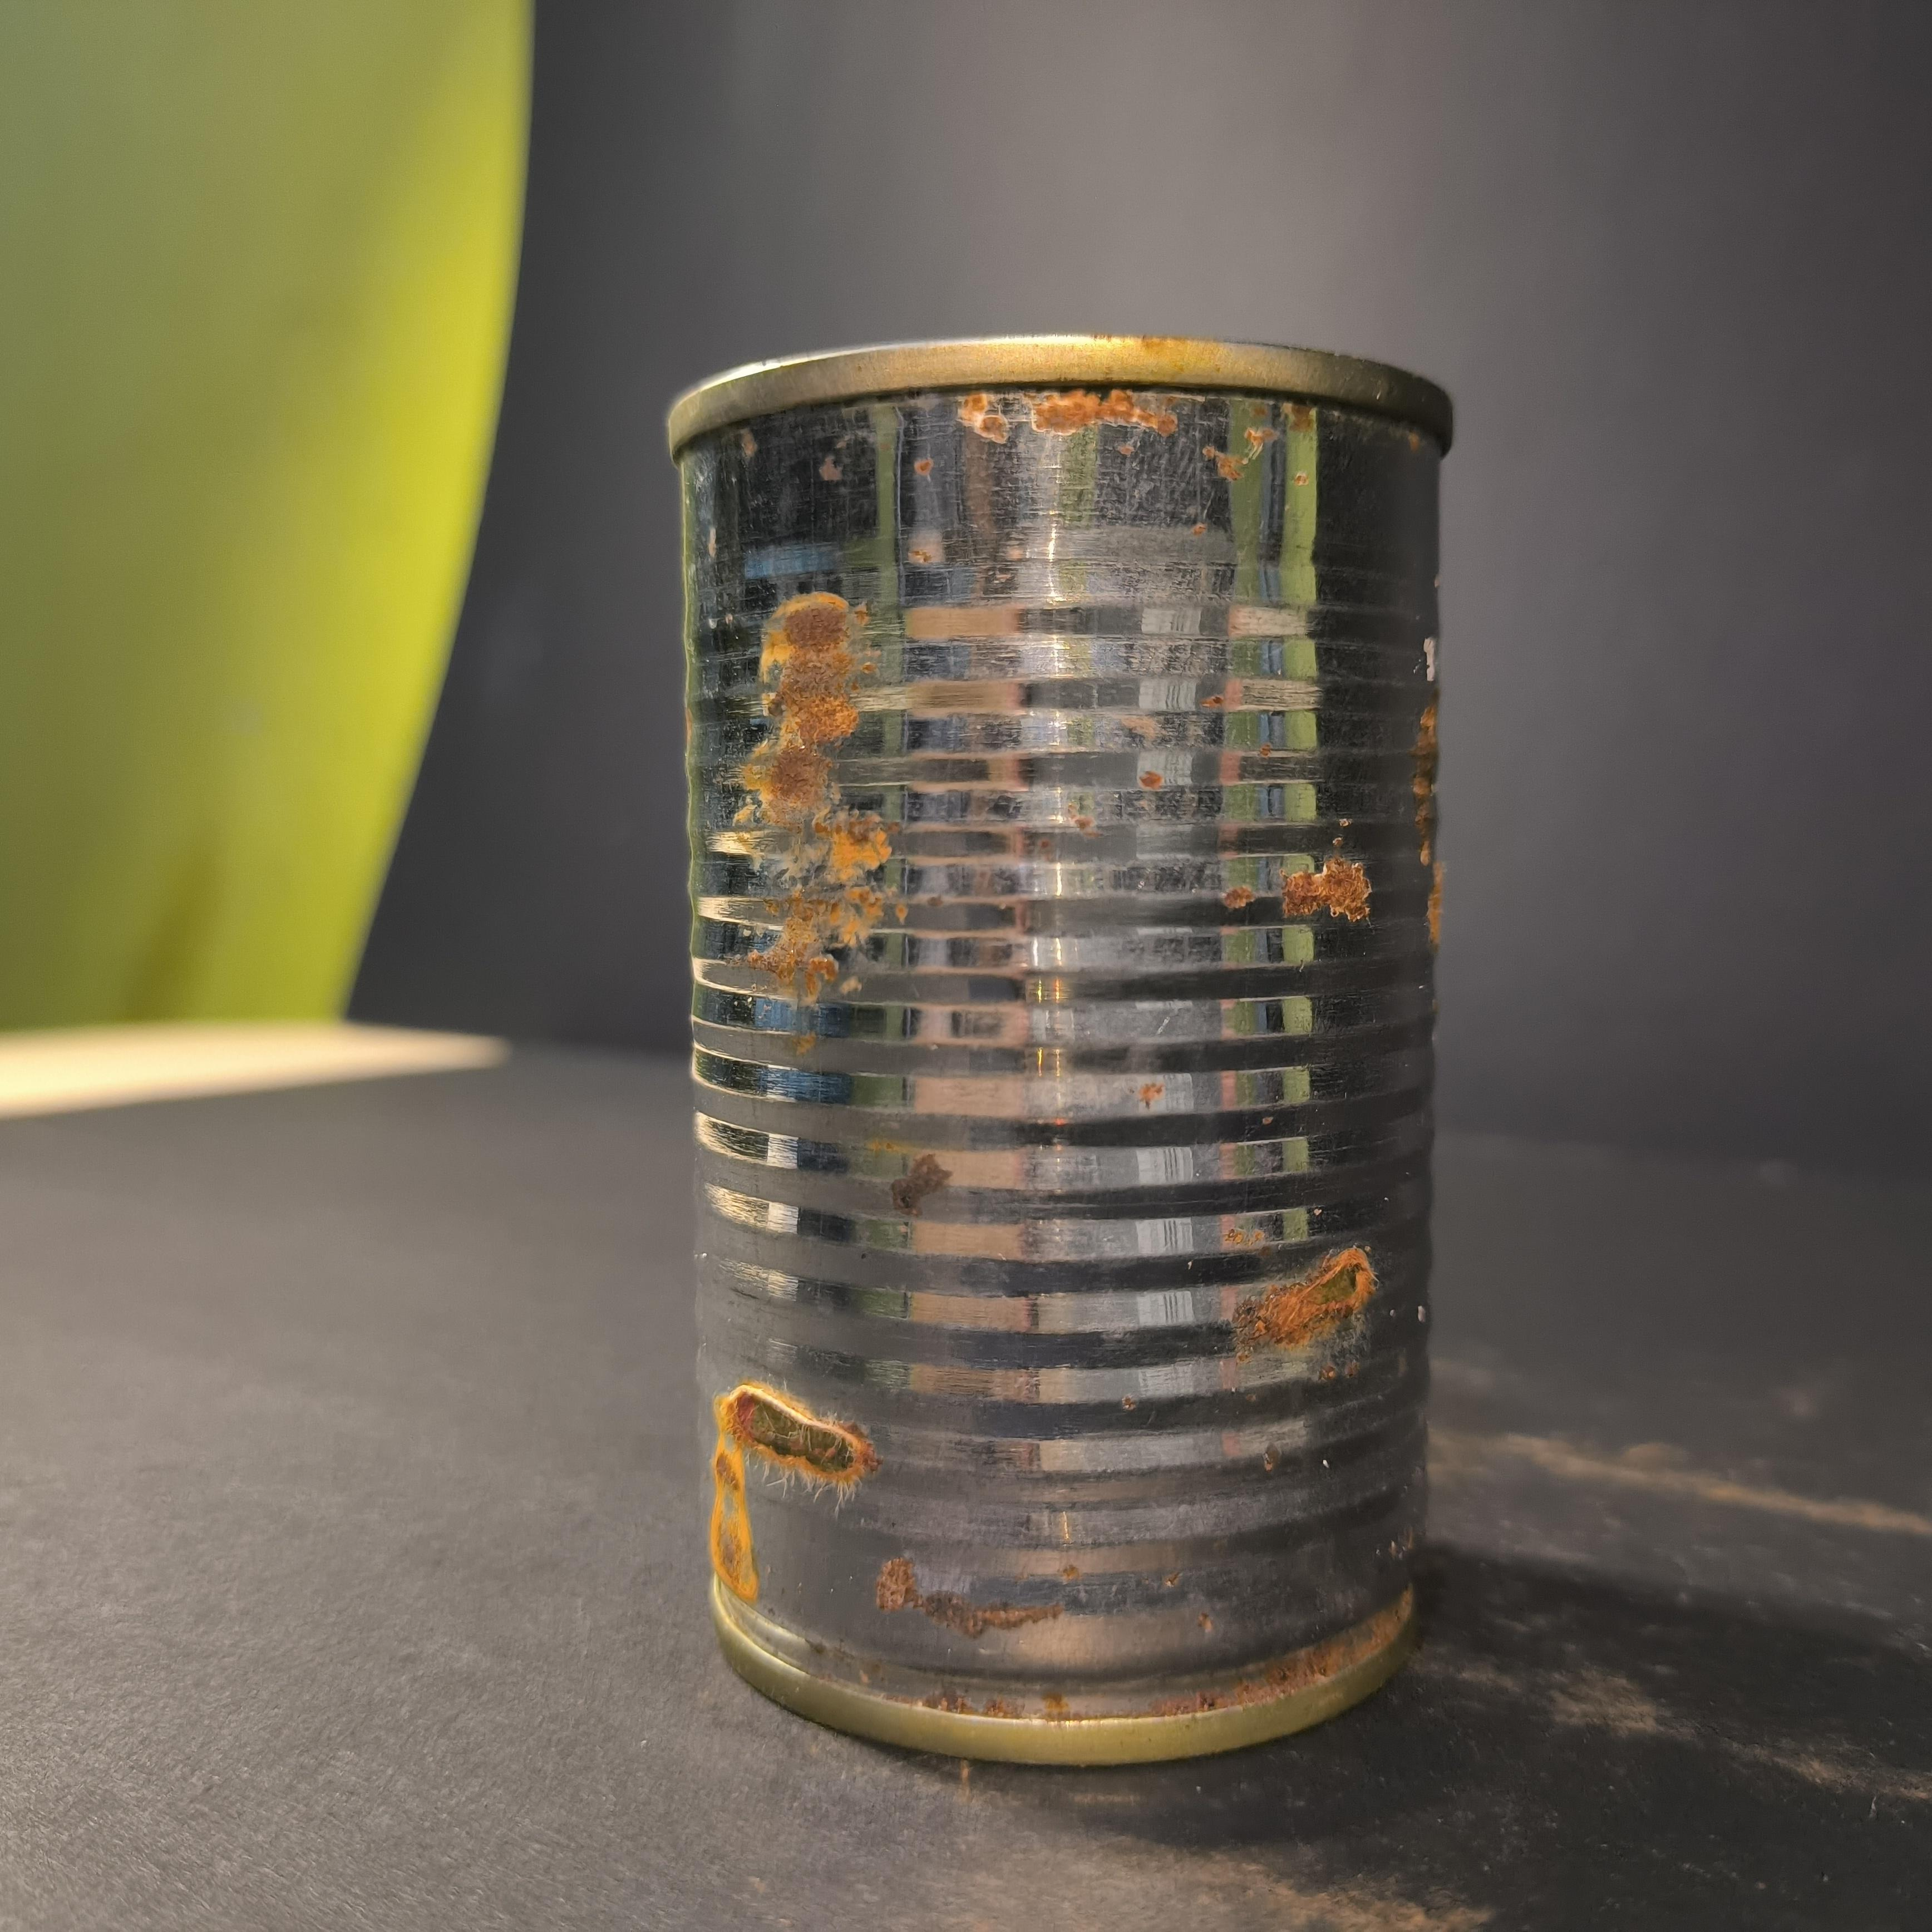Rusted: (648, 306, 1481, 1799)
